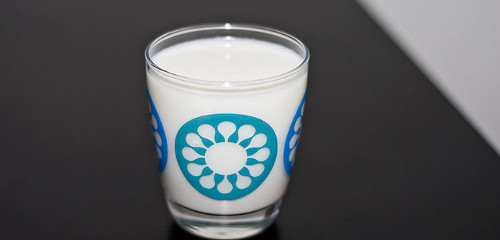glass of milk: (147, 54, 296, 220)
